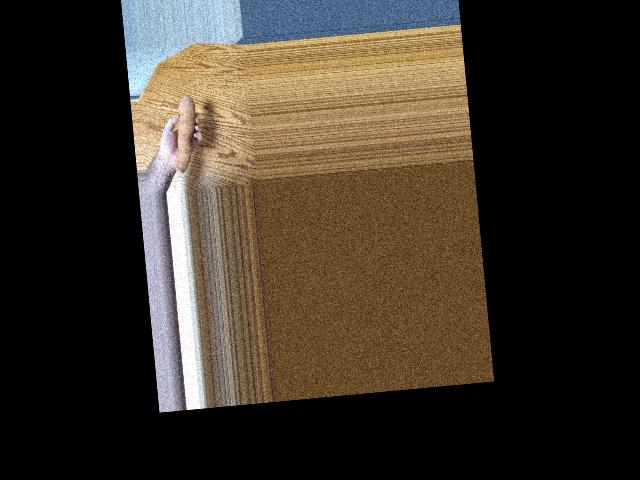sweet_potato: (168, 93, 205, 169)
